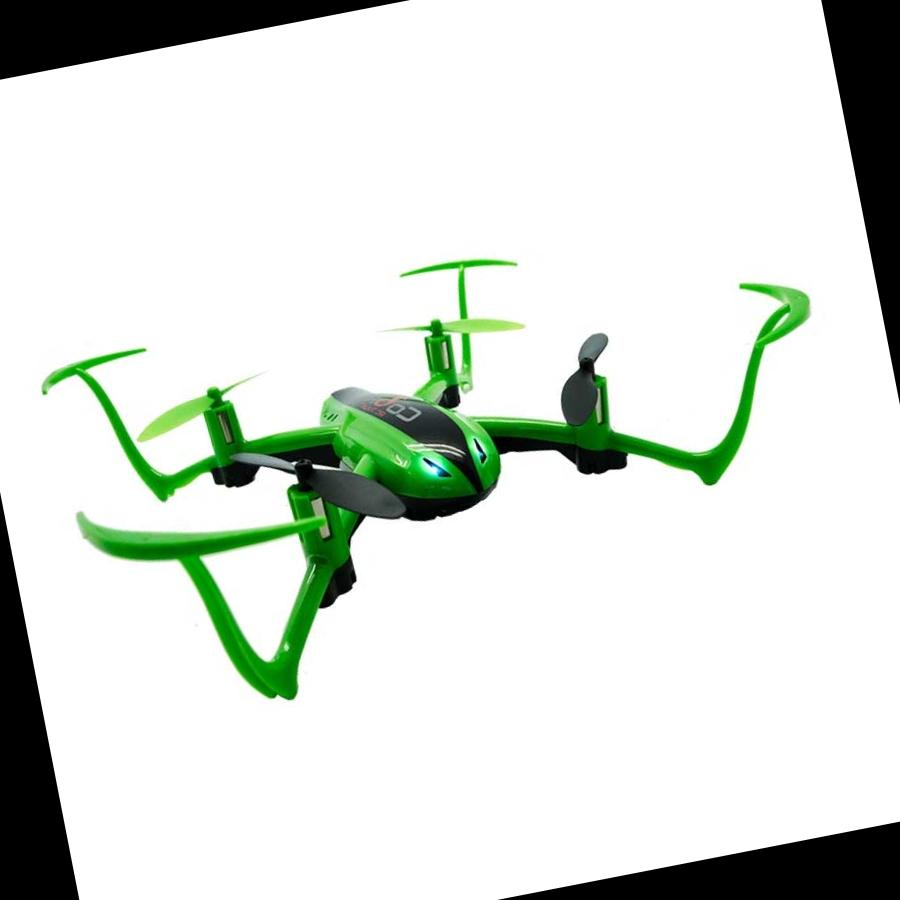drone: (18, 164, 887, 750)
